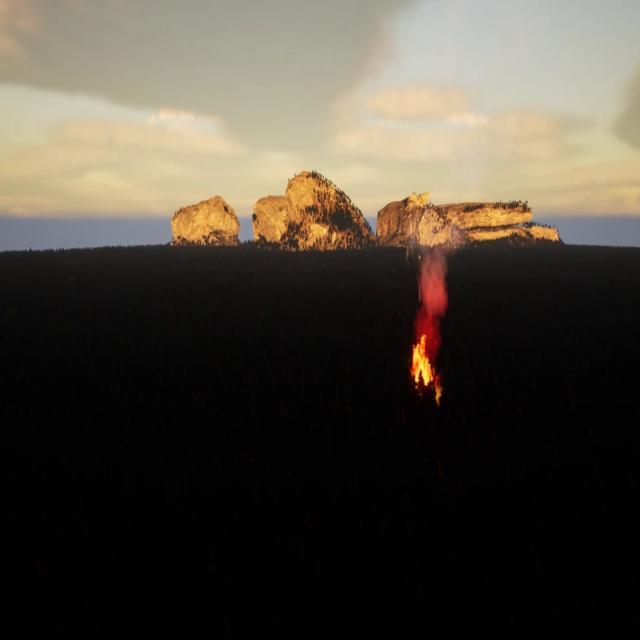fire: (407, 334, 444, 406)
smoke: (418, 240, 444, 344)
